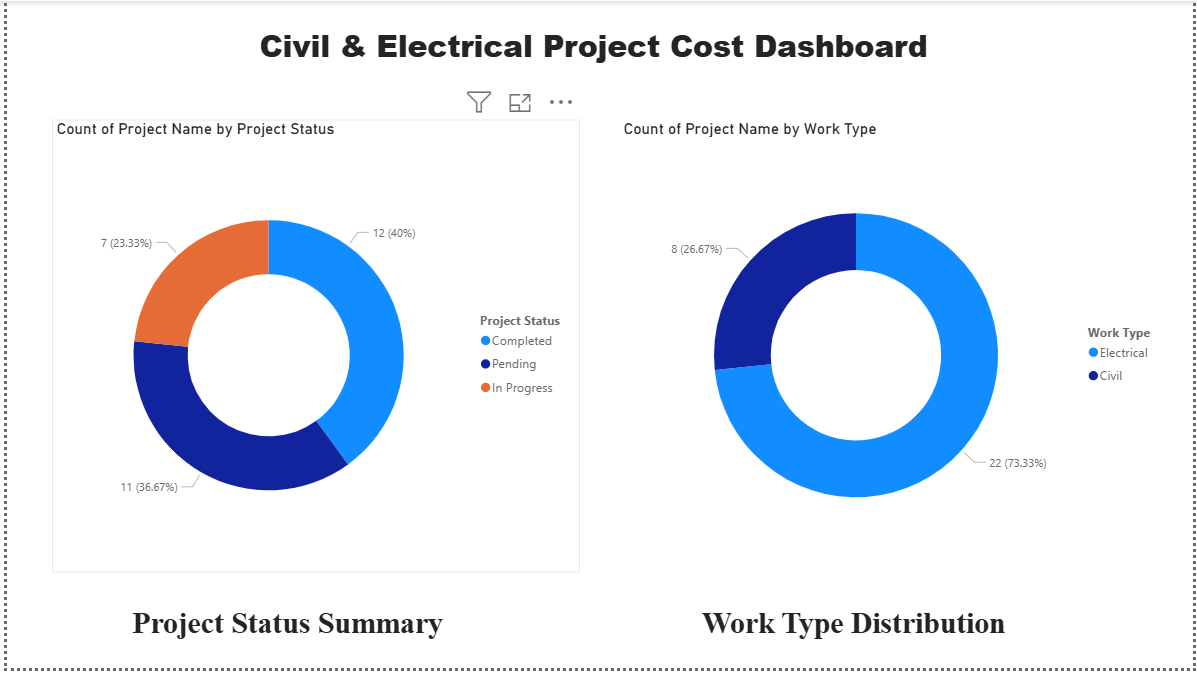

Layout of this report page (visuals, bound fields, positions):
{"tool":"powerbi","page":{"name":"Page 3","canvas":[1280,720],"ordinal":2},"visuals":[{"type":"textbox","box":[9.7,647.7,586.2,72.9],"z":0},{"type":"textbox","box":[9.7,19.4,1246.8,71.2],"z":1000},{"type":"donutChart","fields":{"Y":["CountNonNull(cleaned_warehouse_projects.Project Name)"],"Category":["cleaned_warehouse_projects.Project Status"]},"box":[48.6,127.9,570,489],"z":2000},{"type":"textbox","box":[571.6,647.7,684.9,61.5],"z":3000},{"type":"donutChart","fields":{"Category":["cleaned_warehouse_projects.Work Type"],"Y":["CountNonNull(cleaned_warehouse_projects.Project Name)"]},"box":[660.6,127.9,595.9,489],"z":4000}]}

Visuals, with their boxes in screenshot pixels (x1, y1, x2, y2), scaled from the page's 1280x720 canvas onto the 1197x674 screenshot:
textbox: left=9, top=606, right=557, bottom=673
textbox: left=9, top=18, right=1175, bottom=85
donutChart - CountNonNull(cleaned_warehouse_projects.Project Name) x cleaned_warehouse_projects.Project Status: left=45, top=120, right=578, bottom=577
textbox: left=535, top=606, right=1175, bottom=664
donutChart - cleaned_warehouse_projects.Work Type x CountNonNull(cleaned_warehouse_projects.Project Name): left=618, top=120, right=1175, bottom=577
